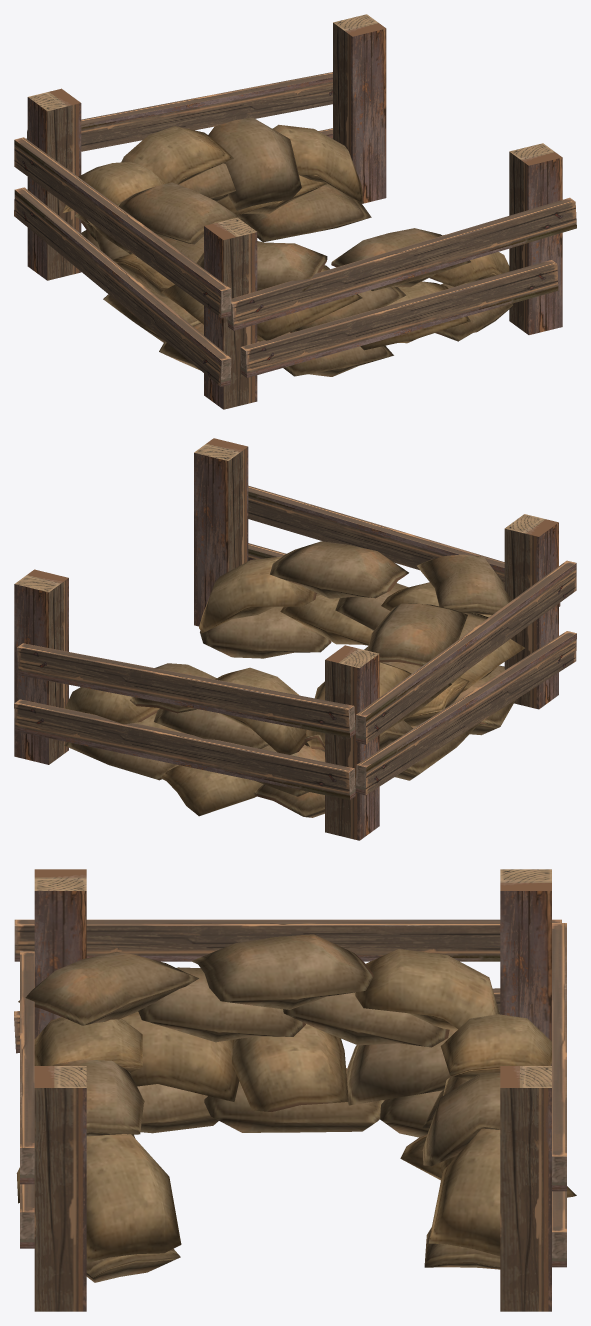
File: tower_middle Full.fbx
The picture shows the model from 3 angles, top to bottom: view 1: azimuth 30°, elevation 25°; view 2: azimuth 150°, elevation 25°; view 3: azimuth 270°, elevation 25°; orthographic projection. The views are drawn at different scales.
Visible parts, largest first — view 1: tower_middle1; view 2: tower_middle1; view 3: tower_middle1.
Part boxes in pixels (x1,y1,x2,y2): tower_middle1: (14, 14, 576, 409); tower_middle1: (14, 438, 576, 840); tower_middle1: (14, 869, 576, 1311).
Size of the model in its own units: 316 by 151 by 327.
1 material, 1 textured.
